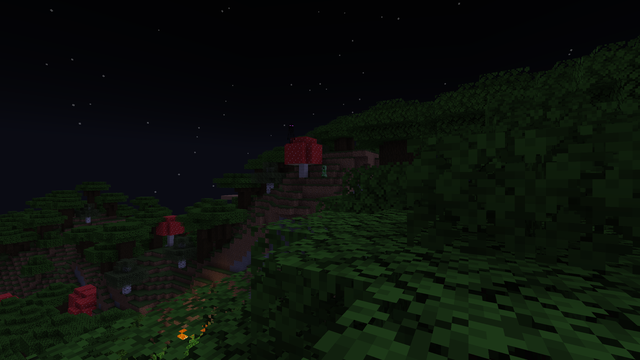creepers: (321, 164, 326, 176)
endermens: (288, 122, 293, 142)
